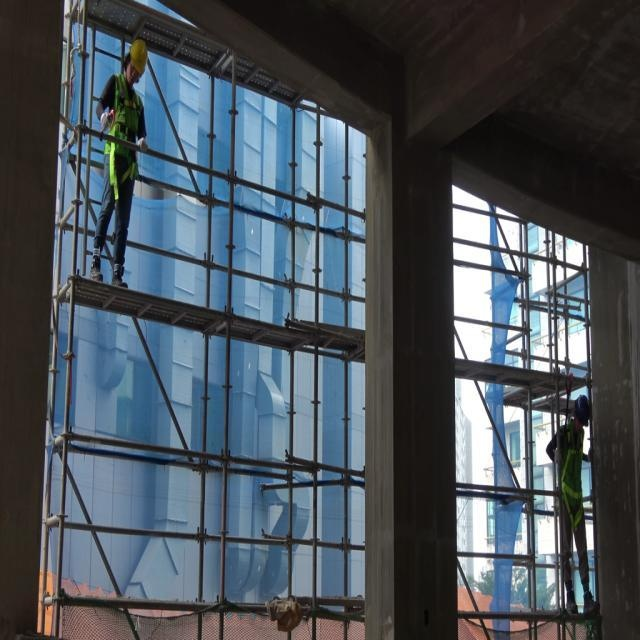Arnes_seguridad: (108, 73, 140, 197), (562, 423, 584, 531)
